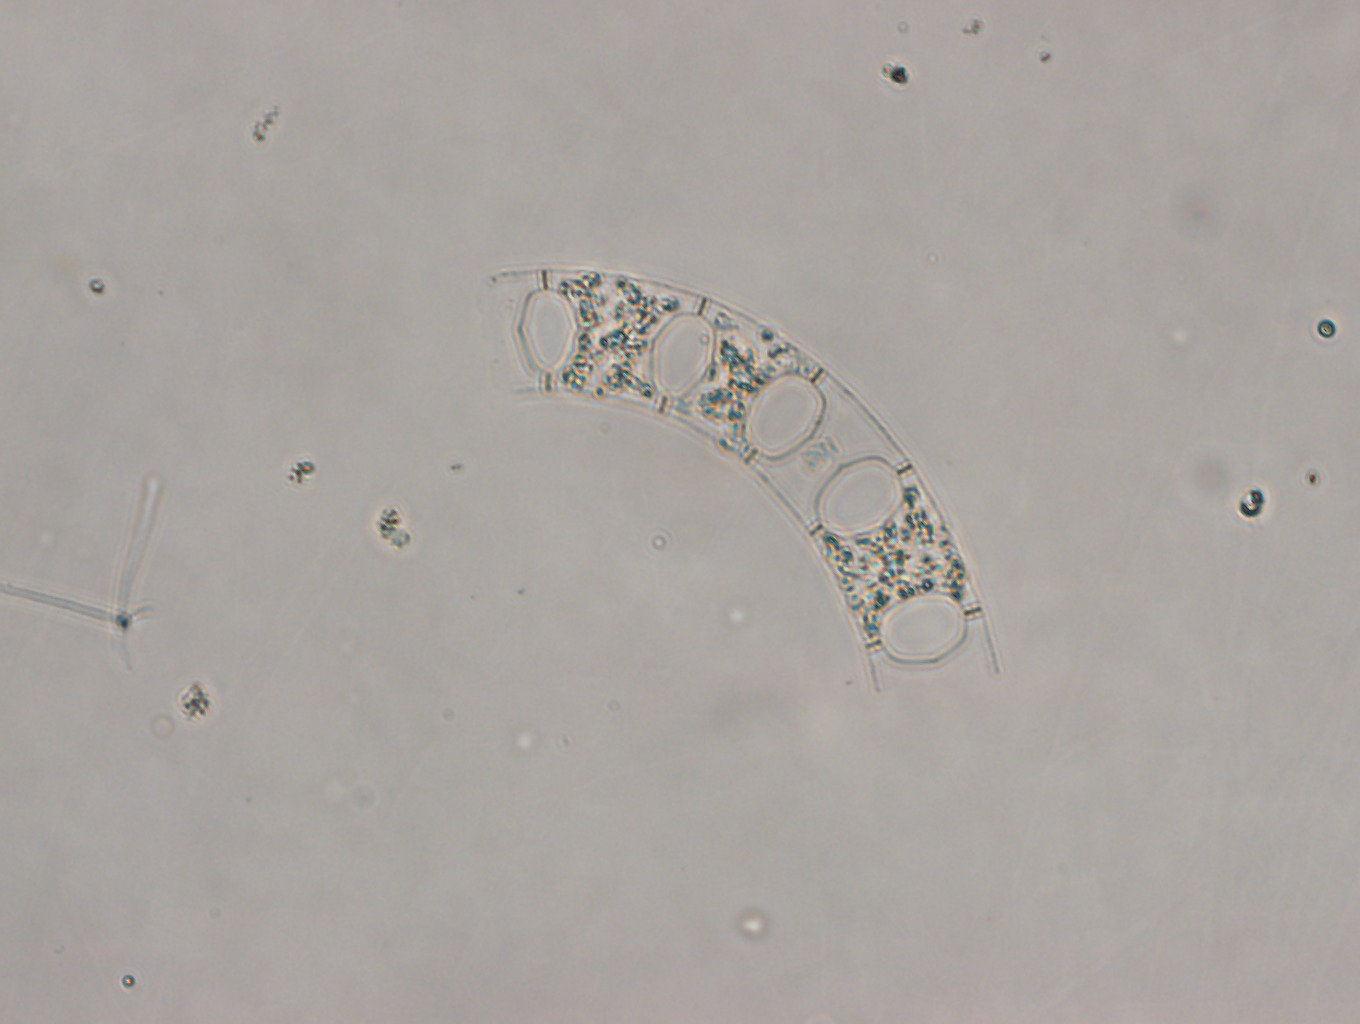eucampia: (488, 268, 1003, 691)
